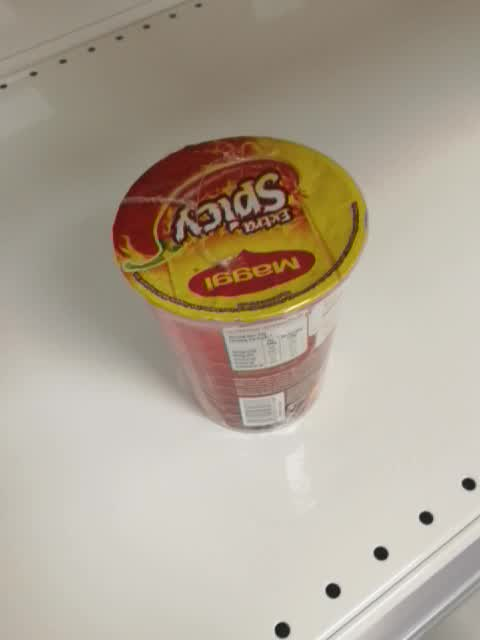maggi: (112, 133, 369, 433)
